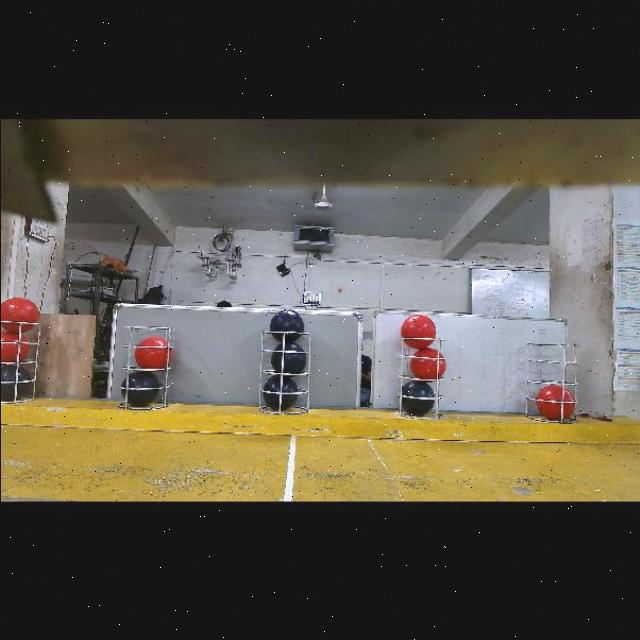P: (120, 370, 158, 406), (398, 380, 434, 415), (270, 341, 305, 376), (269, 308, 304, 342), (262, 375, 297, 409), (0, 365, 30, 399)
R: (0, 296, 38, 333), (535, 385, 574, 420), (410, 347, 445, 382), (399, 314, 435, 348), (136, 336, 171, 368), (0, 330, 28, 361)
S: (248, 326, 322, 418), (110, 322, 178, 406), (518, 340, 582, 424), (389, 332, 449, 414), (0, 318, 48, 409)
